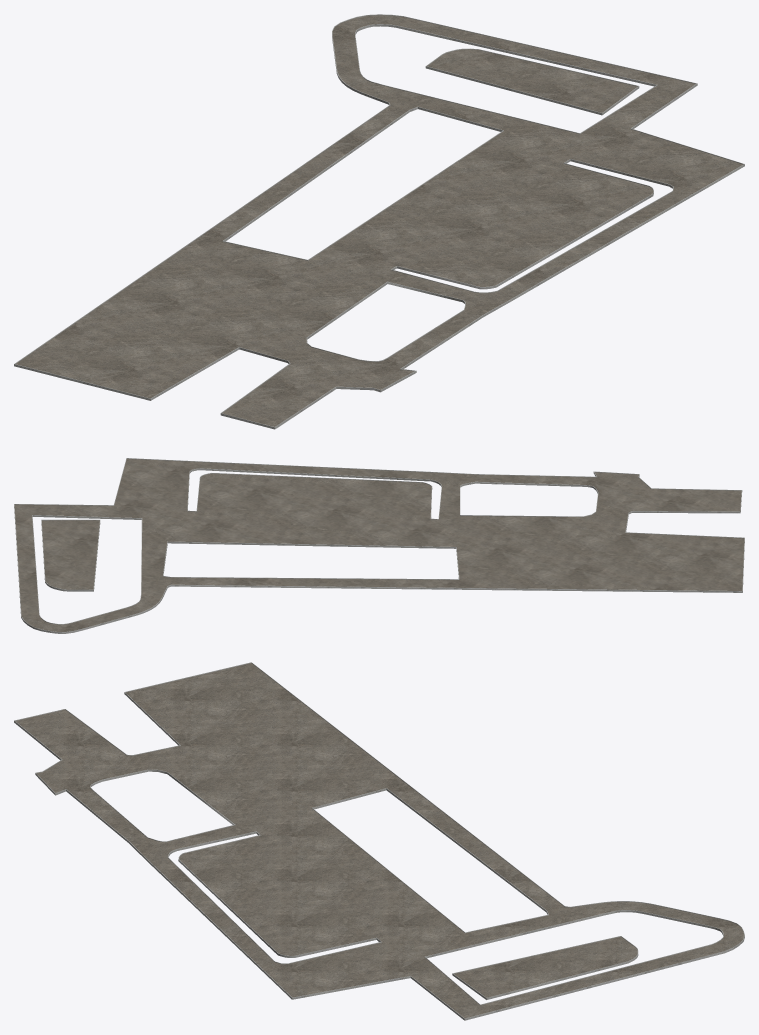
The model's file is road_p04_04.fbx.
The picture shows the model from 3 angles, top to bottom: view 1: azimuth 30°, elevation 25°; view 2: azimuth 150°, elevation 25°; view 3: azimuth 270°, elevation 25°; orthographic projection. The views are drawn at different scales.
Visible parts, largest first — view 1: road_p04_04; view 2: road_p04_04; view 3: road_p04_04.
Boxes of the visible parts, x1=… form: road_p04_04: x1=14, y1=14, x2=744, y2=429; road_p04_04: x1=14, y1=458, x2=744, y2=633; road_p04_04: x1=14, y1=662, x2=744, y2=1020.
Bounding box in the file's own units: 26944 × 70.26 × 23341.
